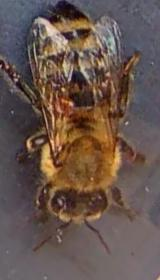varroa_mite: (36, 84, 86, 126)
